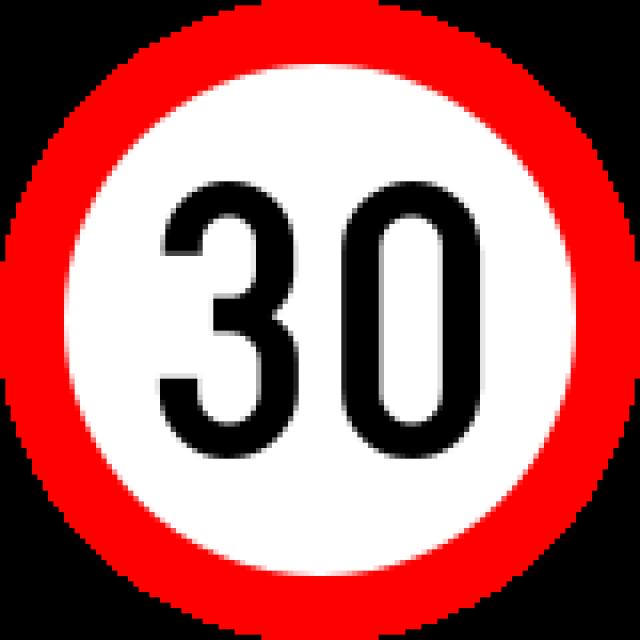Speed Limit -30-: (138, 159, 500, 469)
